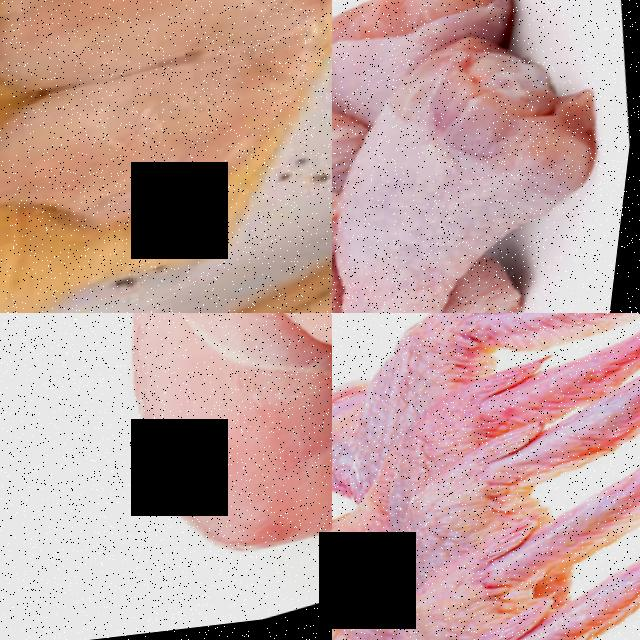chicken breast: (42, 313, 332, 611), (0, 27, 332, 280), (0, 0, 332, 124)
chicken thigh: (332, 7, 640, 313)
chicken wing: (332, 376, 640, 640), (332, 313, 640, 527), (340, 553, 640, 640)
